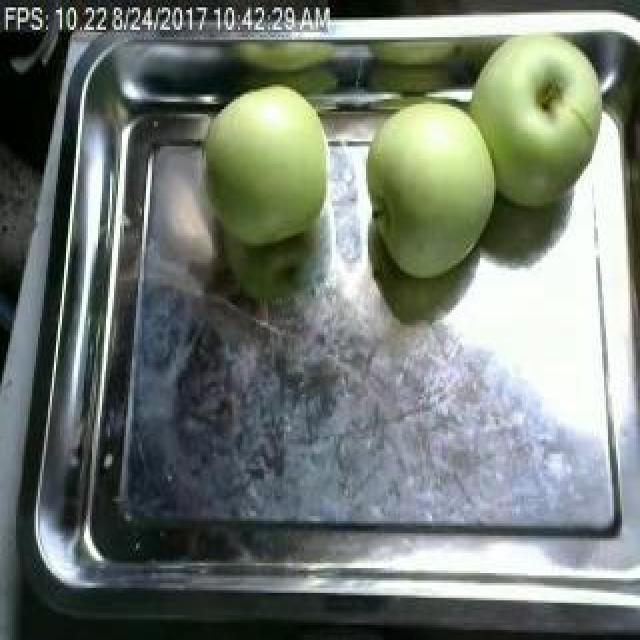Rotten Apple: (359, 105, 493, 284), (198, 83, 334, 252)
